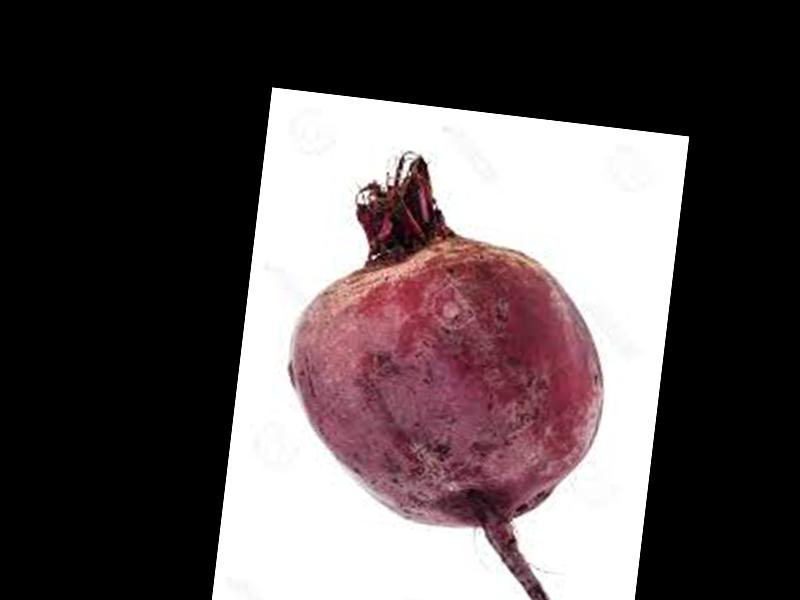Beet: (263, 141, 629, 600)
